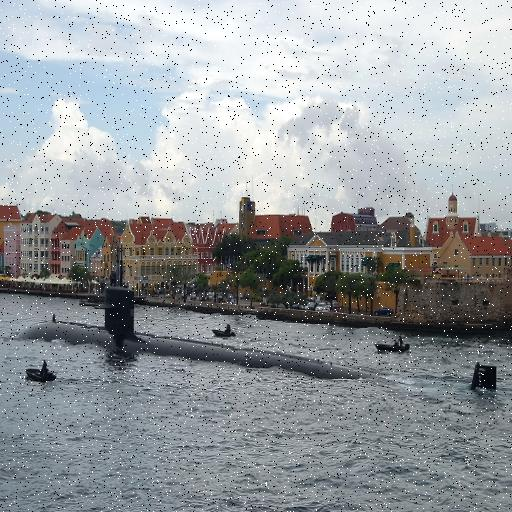submarine: (27, 282, 501, 392)
